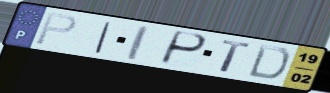D: (245, 42, 293, 81)
I: (126, 24, 151, 62), (92, 20, 114, 55)
P: (157, 30, 210, 67), (33, 11, 80, 47)
T: (218, 38, 253, 74)
